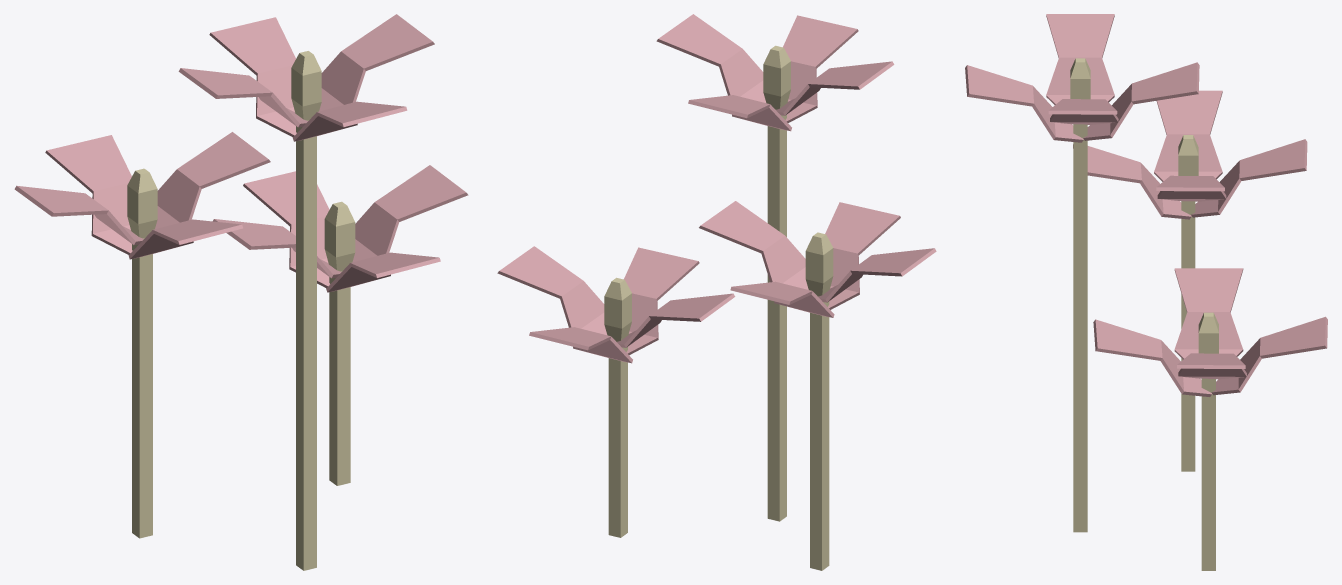
The model's file is big_flower.glb.
The picture shows the model from 3 angles, left to right: view 1: azimuth 30°, elevation 25°; view 2: azimuth 150°, elevation 25°; view 3: azimuth 270°, elevation 25°; orthographic projection. The views are drawn at different scales.
Visible parts, largest first — view 1: Cube.011; view 2: Cube.011; view 3: Cube.011.
Part boxes in pixels (left/top/right/bottom): Cube.011: left=14, top=14, right=468, bottom=570; Cube.011: left=497, top=14, right=936, bottom=570; Cube.011: left=965, top=14, right=1327, bottom=570.
Size of the model in its own units: 0.8752 by 0.9969 by 0.6992.
